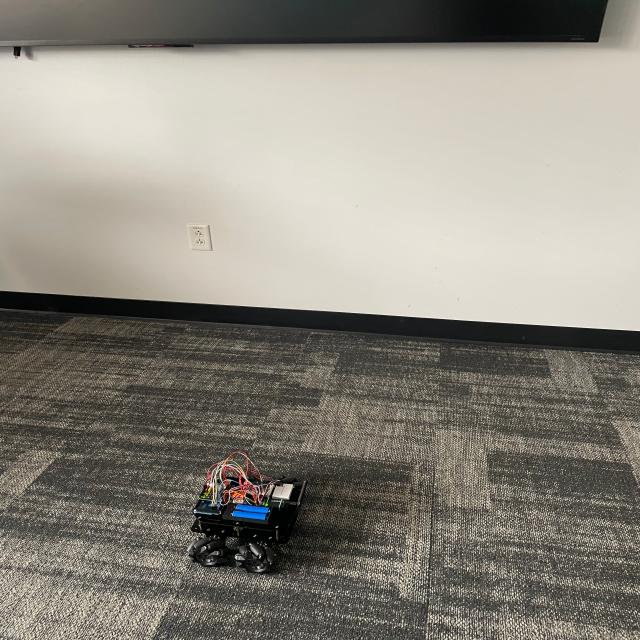ArduinoCar: (184, 449, 305, 575)
